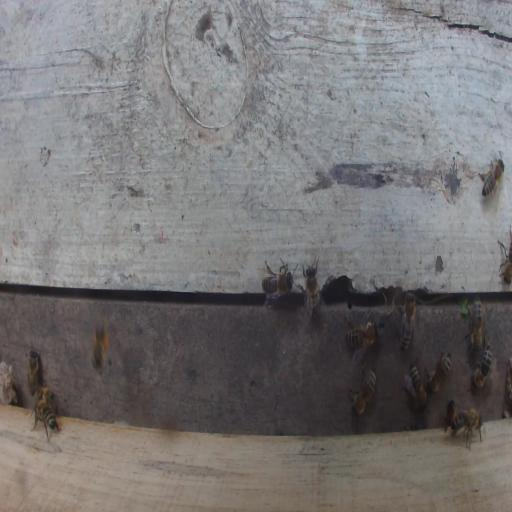nonpollenbee: (261, 256, 300, 311), (345, 313, 379, 369), (346, 366, 379, 422), (464, 335, 493, 396), (449, 404, 483, 451), (463, 292, 487, 354), (31, 398, 62, 445), (401, 362, 428, 415), (303, 264, 324, 328), (424, 351, 452, 398), (480, 154, 505, 201), (398, 291, 417, 351), (497, 222, 511, 287), (38, 385, 60, 416), (27, 348, 41, 396), (443, 399, 455, 434)
pollenbee: (91, 308, 109, 370)
